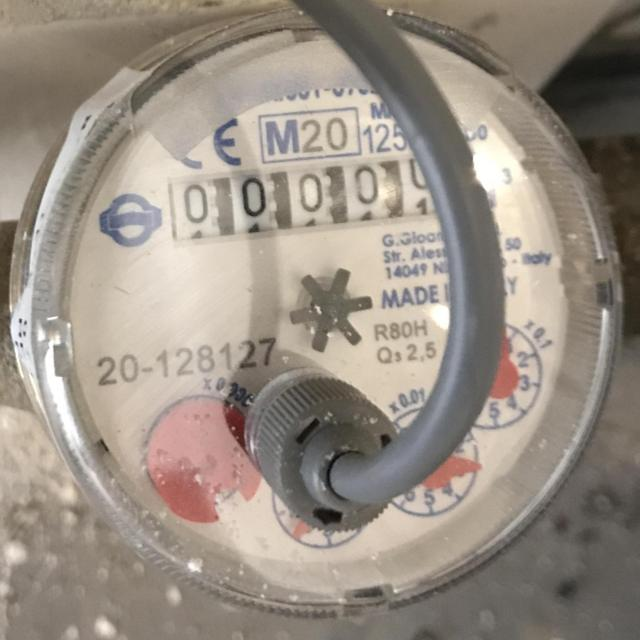gaz_meter: (64, 16, 617, 580)
indication: (168, 151, 499, 245)
